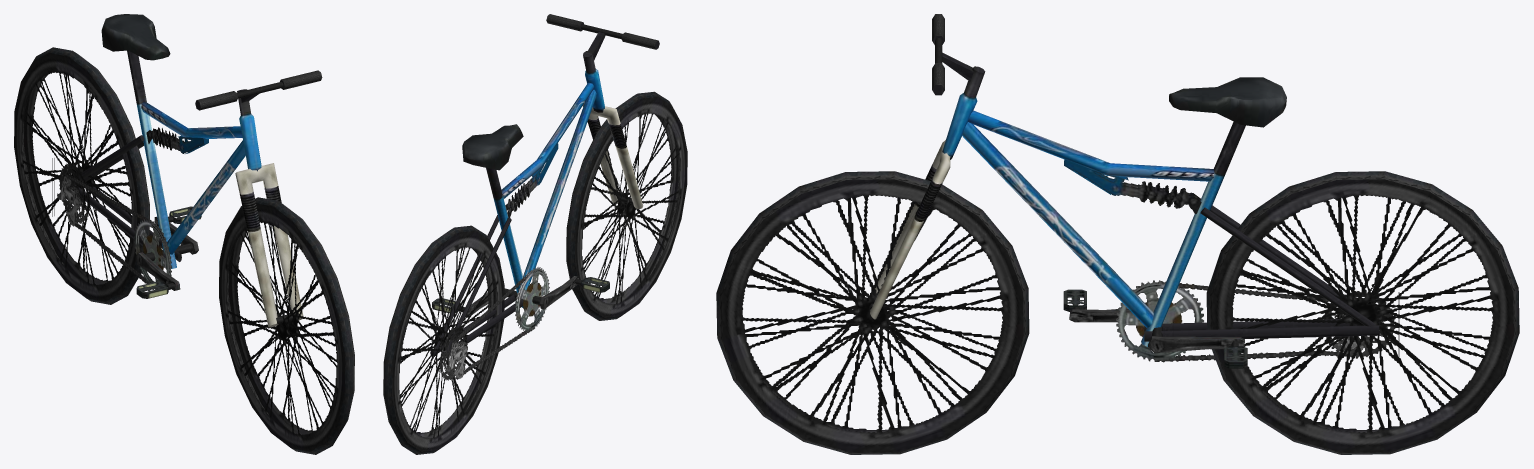
File: bike-6.FBX
The picture shows the model from 3 angles, left to right: view 1: azimuth 30°, elevation 25°; view 2: azimuth 150°, elevation 25°; view 3: azimuth 270°, elevation 25°; orthographic projection. The views are drawn at different scales.
Visible parts, largest first — view 1: bicycle-6_LOD0, F_Wheel_LOD0, R_Wheel_LOD0; view 2: bicycle-6_LOD0, F_Wheel_LOD0, R_Wheel_LOD0; view 3: F_Wheel_LOD0, R_Wheel_LOD0, bicycle-6_LOD0.
Boxes of the visible parts, bbox=[...] form: bicycle-6_LOD0: bbox=[52, 14, 322, 327]; F_Wheel_LOD0: bbox=[219, 197, 354, 454]; R_Wheel_LOD0: bbox=[14, 47, 149, 304]; bicycle-6_LOD0: bbox=[430, 14, 659, 395]; F_Wheel_LOD0: bbox=[566, 91, 687, 320]; R_Wheel_LOD0: bbox=[383, 225, 504, 454]; F_Wheel_LOD0: bbox=[716, 171, 1029, 454]; R_Wheel_LOD0: bbox=[1206, 171, 1519, 454]; bicycle-6_LOD0: bbox=[869, 14, 1399, 368].
Size of what is drawn, in the model's own units: 17.27 by 44.17 by 79.39.
